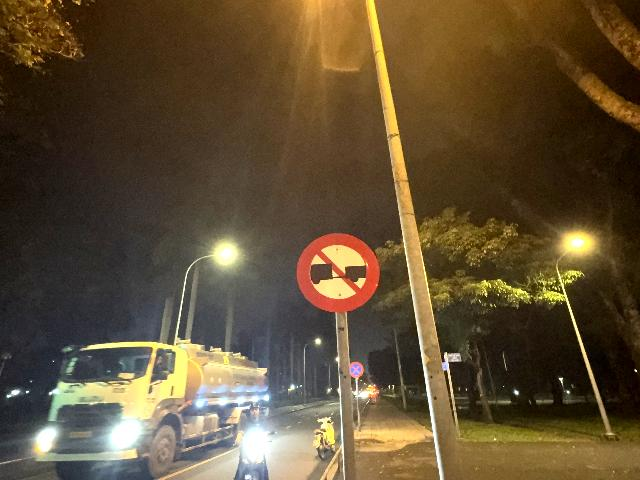cam-xe-somi-romooc: (296, 233, 380, 313)
